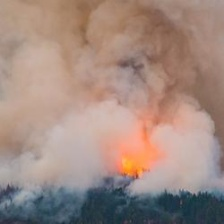fire: (123, 151, 141, 174)
smoke: (4, 7, 220, 208)
